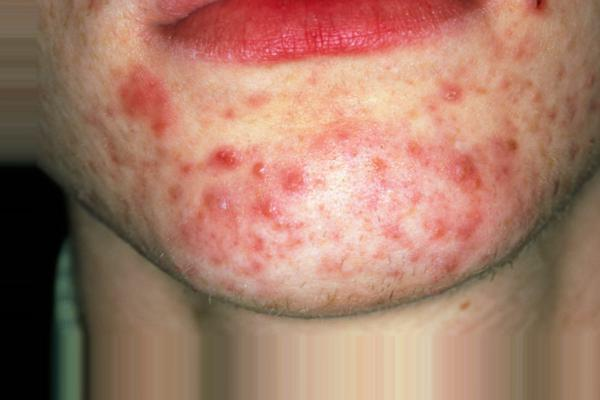Acne: (207, 140, 319, 204), (199, 208, 284, 261), (432, 153, 491, 222), (418, 76, 503, 123), (123, 69, 174, 136)
